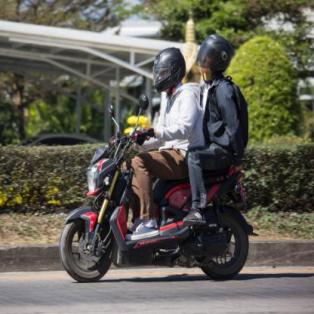Motocicleta: (58, 125, 258, 284)
